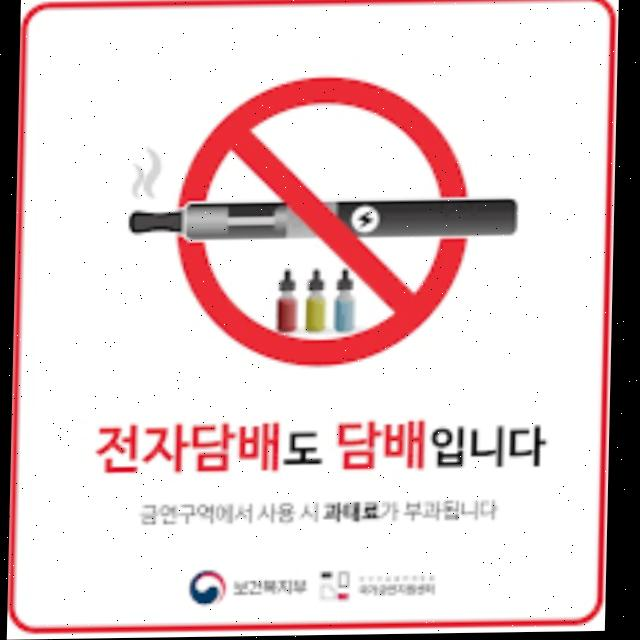vape: (127, 195, 523, 243)
